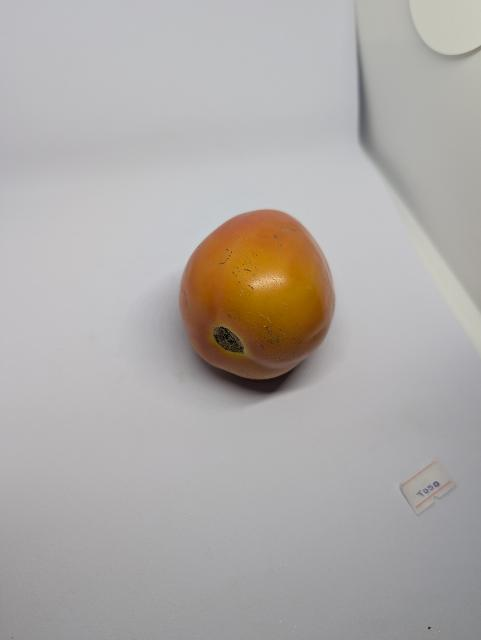turning: (176, 195, 344, 386)
